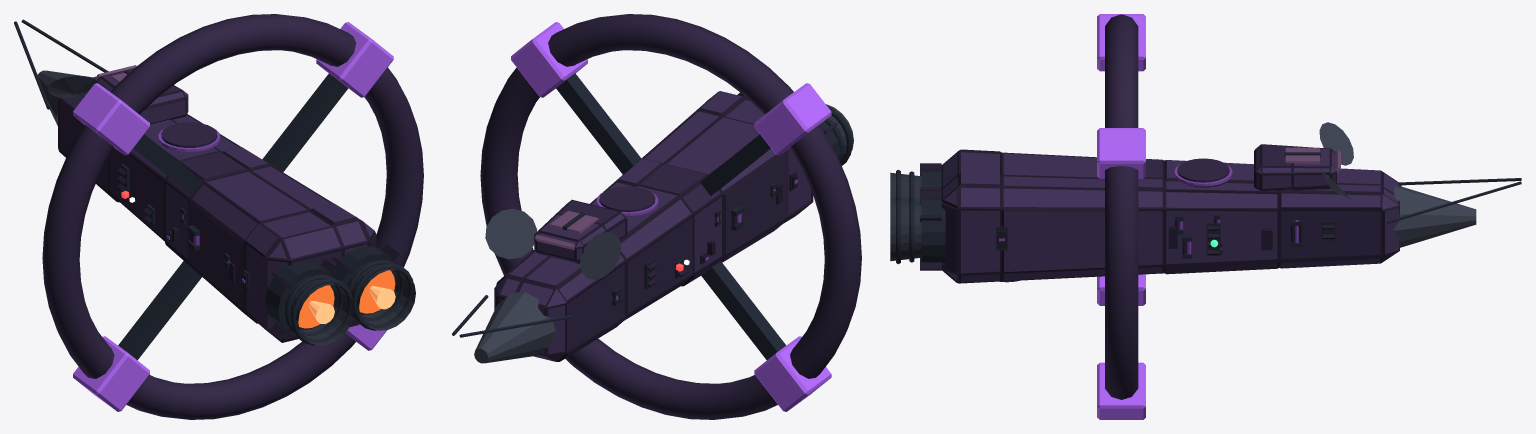
The model's file is nyx.glb.
3 renders of one model, left to right at view 1: azimuth 30°, elevation 25°; view 2: azimuth 150°, elevation 25°; view 3: azimuth 270°, elevation 25°, orthographic. The views are drawn at different scales.
Parts seen in each view (by area): view 1: ring_mesh, nyx_mesh; view 2: ring_mesh, nyx_mesh; view 3: nyx_mesh, ring_mesh.
Part boxes in pixels (x1=…): ring_mesh: x1=42, y1=14, x2=423, y2=419; nyx_mesh: x1=14, y1=19, x2=415, y2=345; ring_mesh: x1=480, y1=14, x2=861, y2=419; nyx_mesh: x1=452, y1=91, x2=853, y2=363; nyx_mesh: x1=890, y1=122, x2=1521, y2=283; ring_mesh: x1=1097, y1=14, x2=1145, y2=419.
Bounding box in the file's own units: 7.44 × 7.44 × 11.57.
